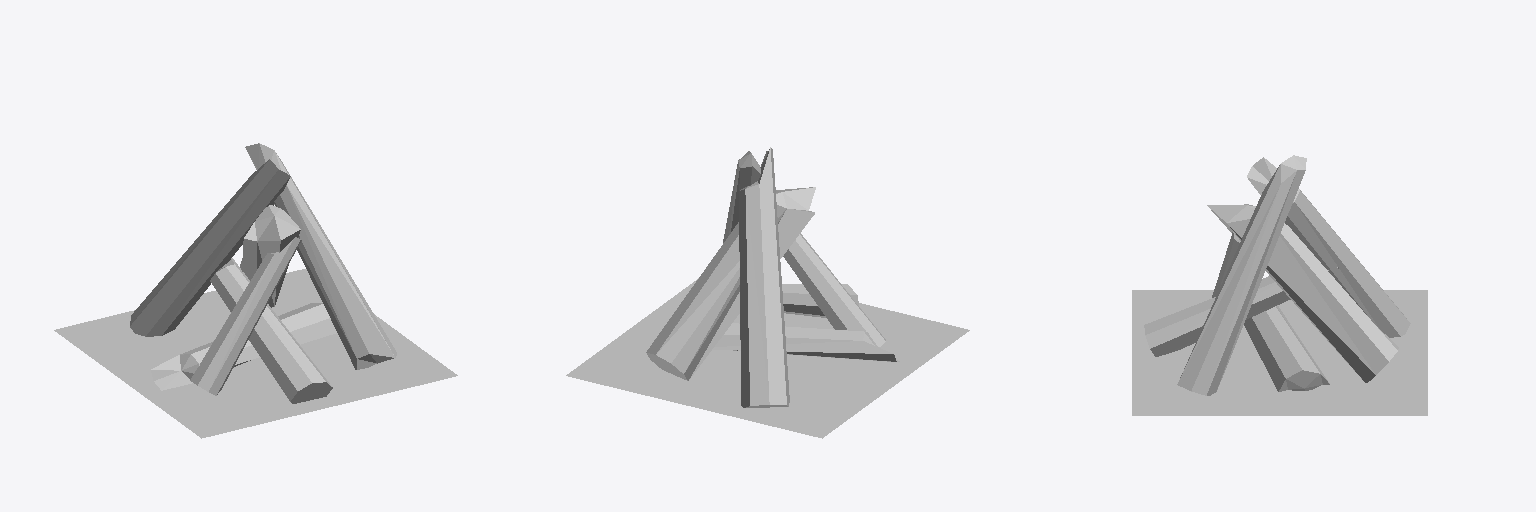
File: fireplace.obj
3 views of the same model, side by side, from view 1: azimuth 30°, elevation 25°; view 2: azimuth 150°, elevation 25°; view 3: azimuth 270°, elevation 25° (orthographic).
Parts seen in each view (by area): view 1: cube2; view 2: cube2; view 3: cube2.
Part boxes in pixels (bbox=[...]): cube2: bbox=[54, 143, 457, 438]; cube2: bbox=[566, 147, 969, 438]; cube2: bbox=[1132, 155, 1427, 415].
Size of the model in its own units: 2.97 by 2.33 by 2.97.